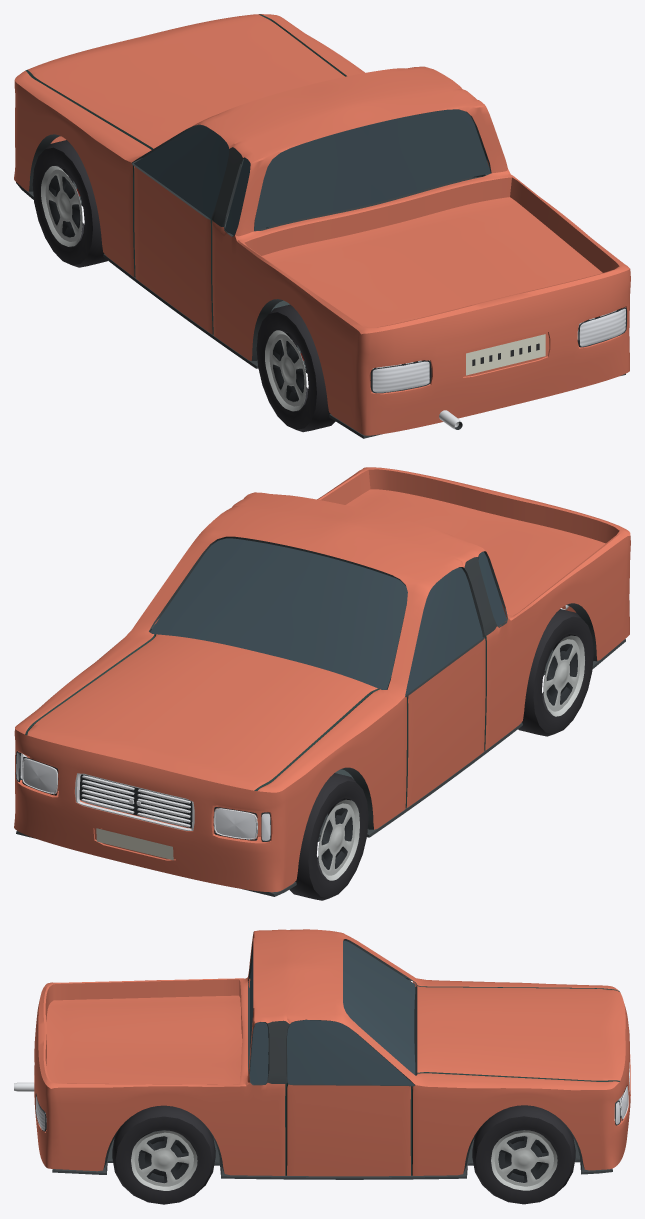
The model's file is forge_closed_pickup_lod1.fbx.
3 renders of one model, top to bottom at view 1: azimuth 30°, elevation 25°; view 2: azimuth 150°, elevation 25°; view 3: azimuth 270°, elevation 25°, orthographic. The views are drawn at different scales.
Visible parts, largest first — view 1: Body, Wheel_RL_Mesh, Wheel_FL_Mesh; view 2: Body, Wheel_FL_Mesh, Wheel_RL_Mesh; view 3: Body, Wheel_FR_Mesh, Wheel_RR_Mesh.
Boxes of the visible parts, x1,y1,x2,y2 form: Body: (14, 14, 630, 438); Wheel_RL_Mesh: (256, 304, 335, 432); Wheel_FL_Mesh: (32, 140, 107, 267); Body: (14, 467, 630, 896); Wheel_FL_Mesh: (289, 773, 368, 900); Wheel_RL_Mesh: (518, 609, 593, 736); Body: (14, 929, 630, 1179); Wheel_FR_Mesh: (472, 1105, 575, 1204); Wheel_RR_Mesh: (112, 1105, 215, 1204).
Bounding box in the file's own units: 160 × 128 × 382.
